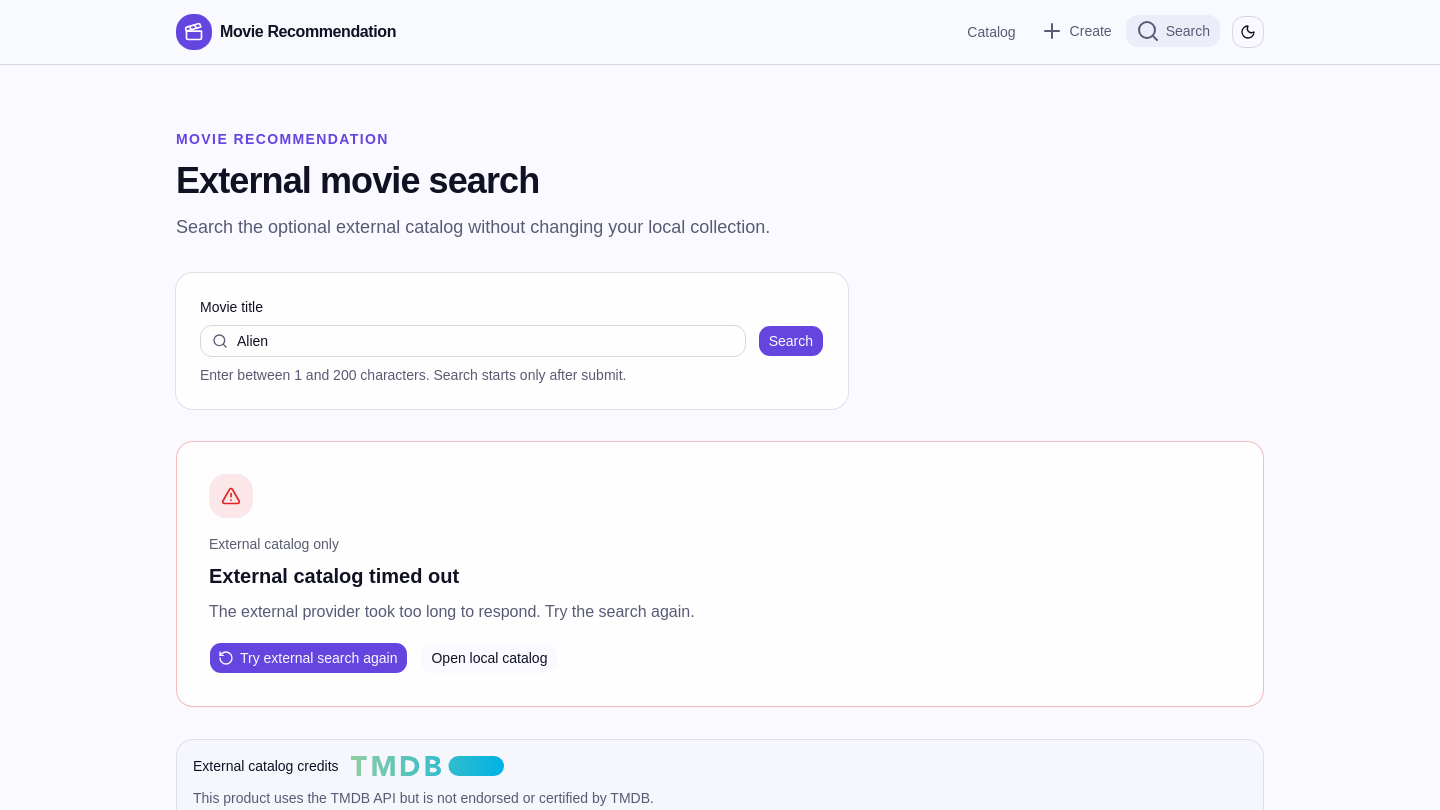
external search errors › retries a transient provider failure only after the user asks
The image size is (1440, 810).
Click the button "Try external search again": [309, 658] box [209,642,408,674]
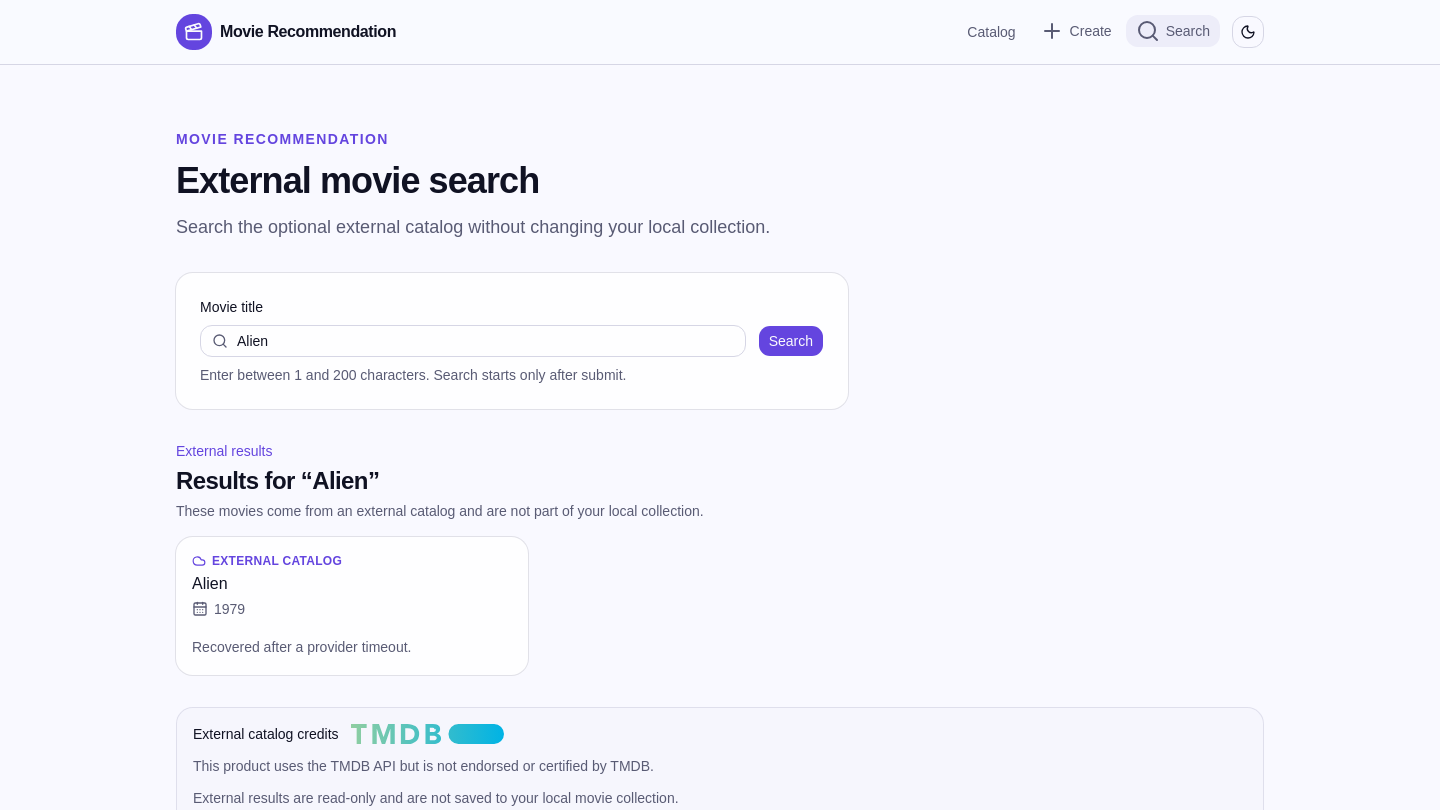
Check: the heading "Results for “Alien”" is shown, box [176,467,379,494]
Check: the text "Recovered after a provider timeout." is shown, box [192,639,412,655]
